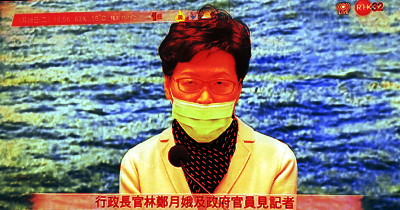mask_weared_incorrect: (171, 69, 239, 144)
